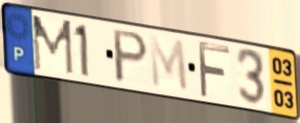1: (71, 22, 91, 79)
3: (236, 46, 266, 108)
F: (196, 39, 233, 101)
M: (30, 13, 76, 78), (147, 33, 191, 95)
P: (112, 27, 151, 86)
